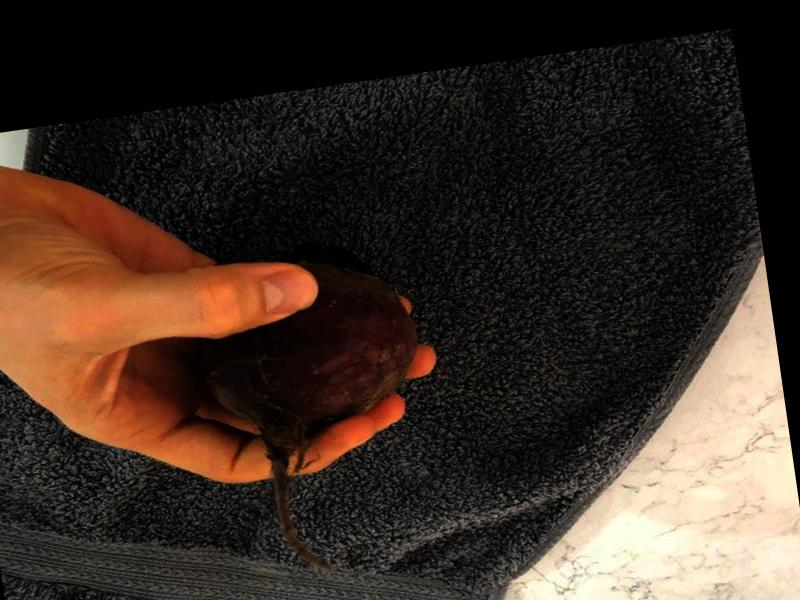Beet: (184, 230, 447, 585)
